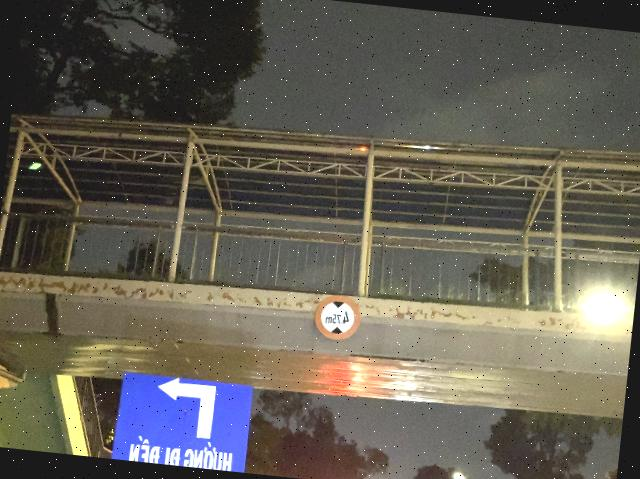han-che-chieu-cao: (314, 292, 362, 342)
